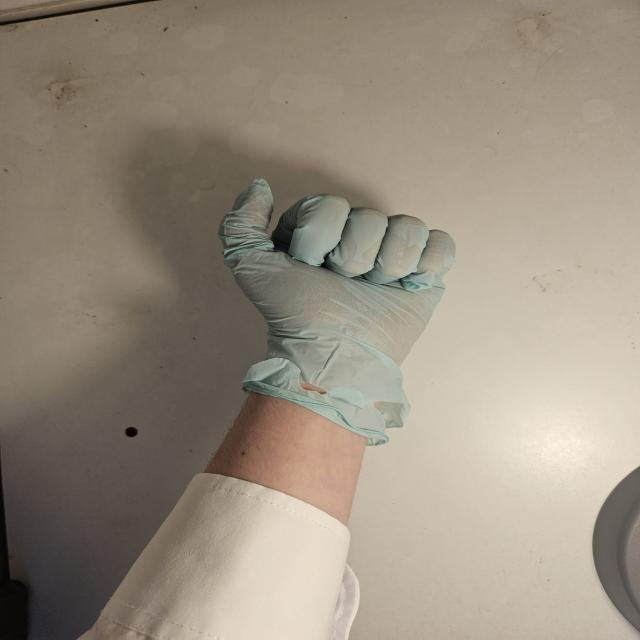gloves_damaged: (218, 175, 456, 444)
